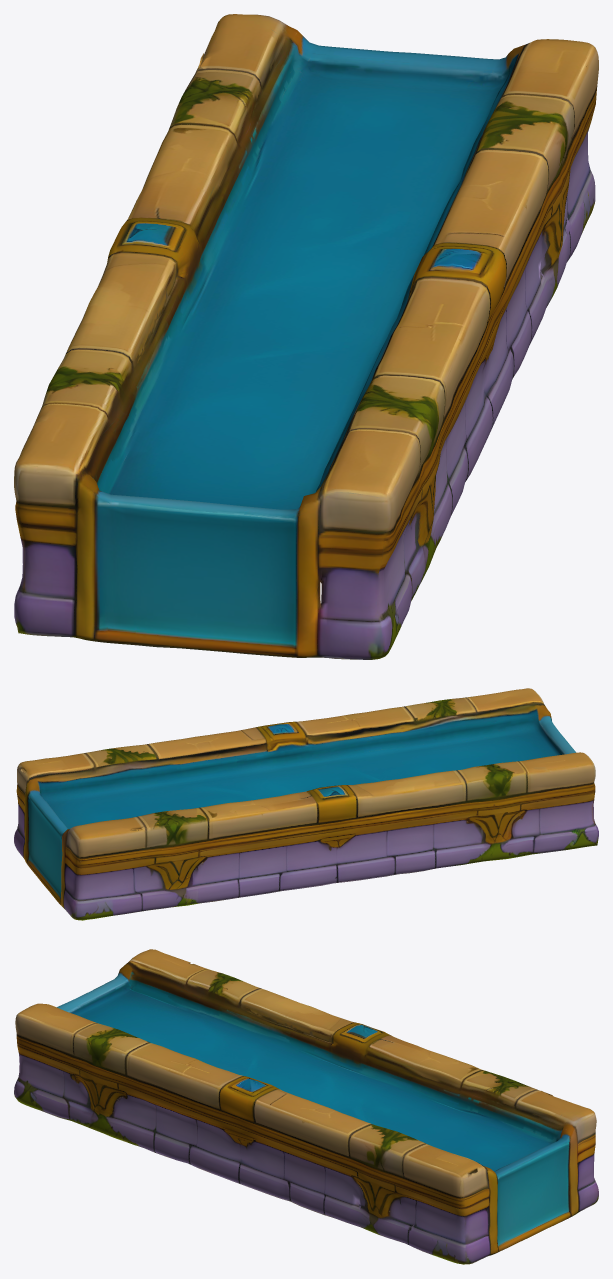
Rendered from 14-garden-straight-waterway.glb.
3 views of the same model, one above another, from view 1: azimuth 30°, elevation 25°; view 2: azimuth 150°, elevation 25°; view 3: azimuth 270°, elevation 25° (orthographic). The views are drawn at different scales.
Parts seen in each view (by area): view 1: tripo_node_82bf3ef2; view 2: tripo_node_82bf3ef2; view 3: tripo_node_82bf3ef2.
Boxes of the visible parts, x1,y1,x2,y2 form: tripo_node_82bf3ef2: (14, 14, 598, 659); tripo_node_82bf3ef2: (14, 688, 598, 920); tripo_node_82bf3ef2: (14, 949, 598, 1264).
Size of the model in its own units: 1.51 by 0.3 by 1.62.
1 material, 1 textured.
